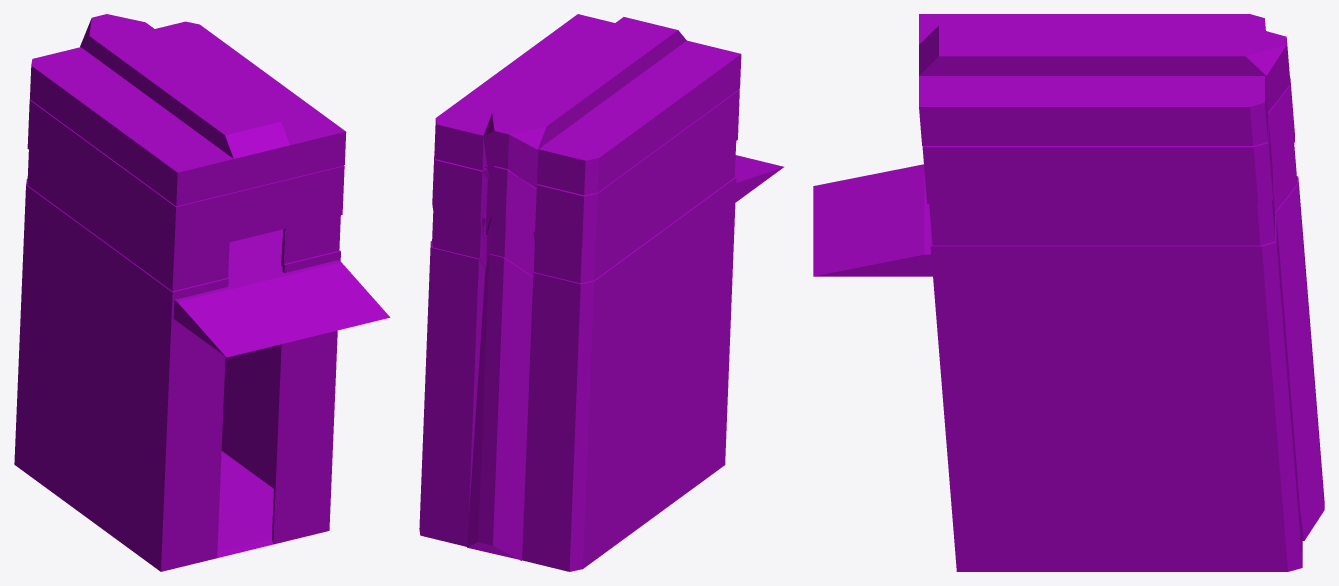
File: expbf_start_building.gltf
3 renders of one model, left to right at view 1: azimuth 30°, elevation 25°; view 2: azimuth 150°, elevation 25°; view 3: azimuth 270°, elevation 25°, orthographic. The views are drawn at different scales.
Parts seen in each view (by area): view 1: building wall; view 2: building wall; view 3: building wall.
Boxes of the visible parts, <box> form: building wall: <box>14,14,390,571</box>; building wall: <box>419,14,783,571</box>; building wall: <box>813,14,1324,571</box>.
Bounding box in the file's own units: 24.54 × 59.67 × 57.04.
